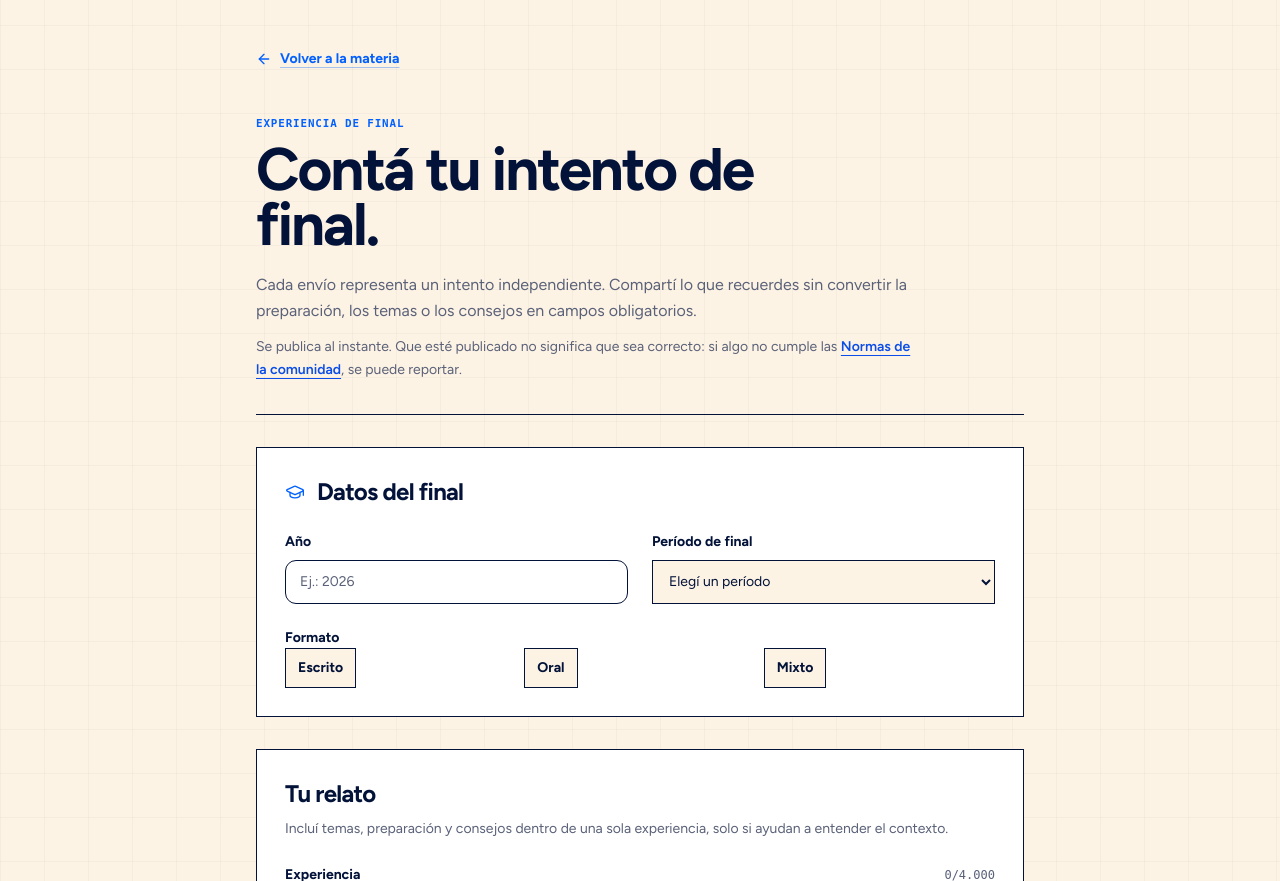
Test: ExamForm › keeps invalid grade input and supports keyboard format selection without inferring an outcome
Type keys "[Space]"
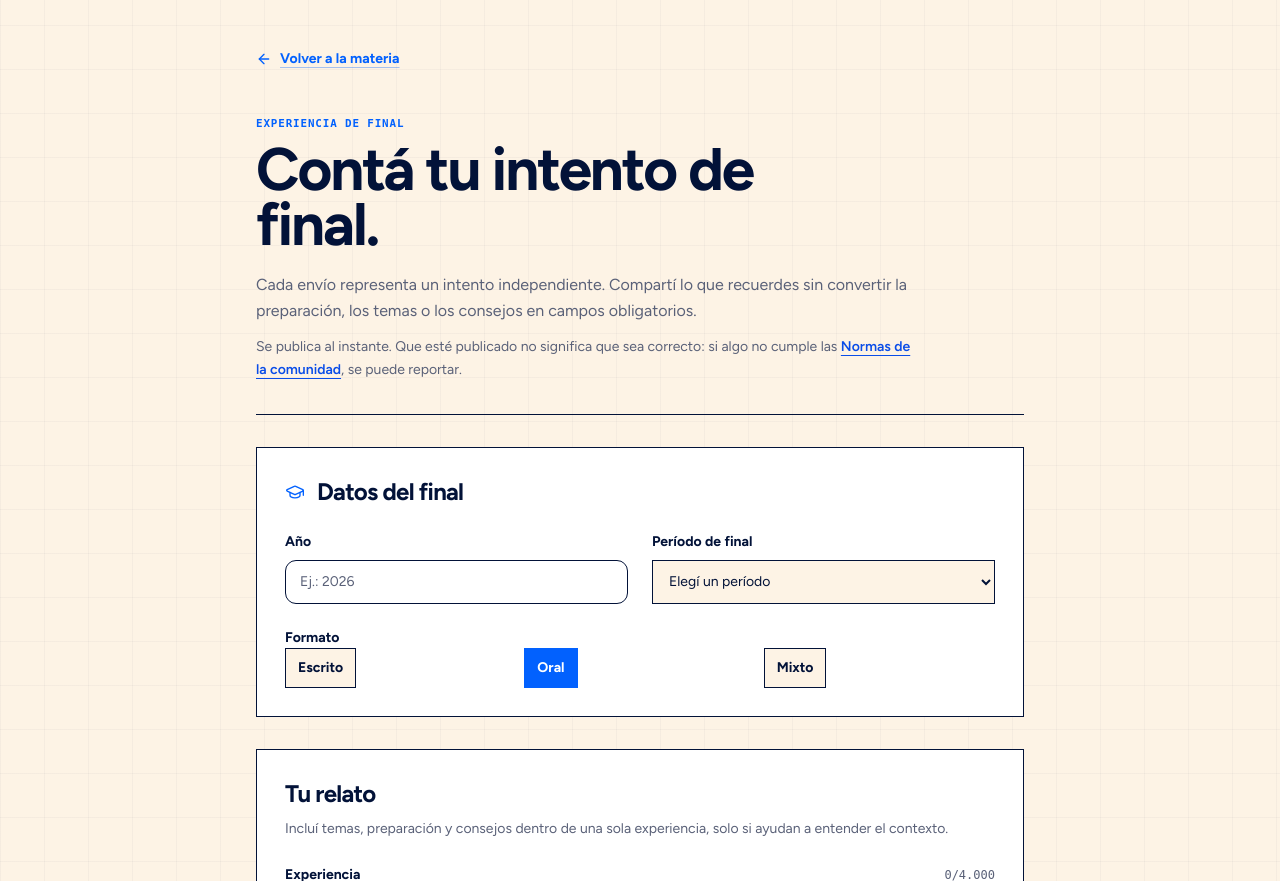
Check: the radio button labelled "Oral" is checked, box [524,648,578,688]
Type "2026" into the number field labelled "Año" at (456, 582), box [285,560,628,604]
Select "Julio" in the dropdown labelled "Período de final" at (824, 582), box [652,560,995,604]
(page scrolled)
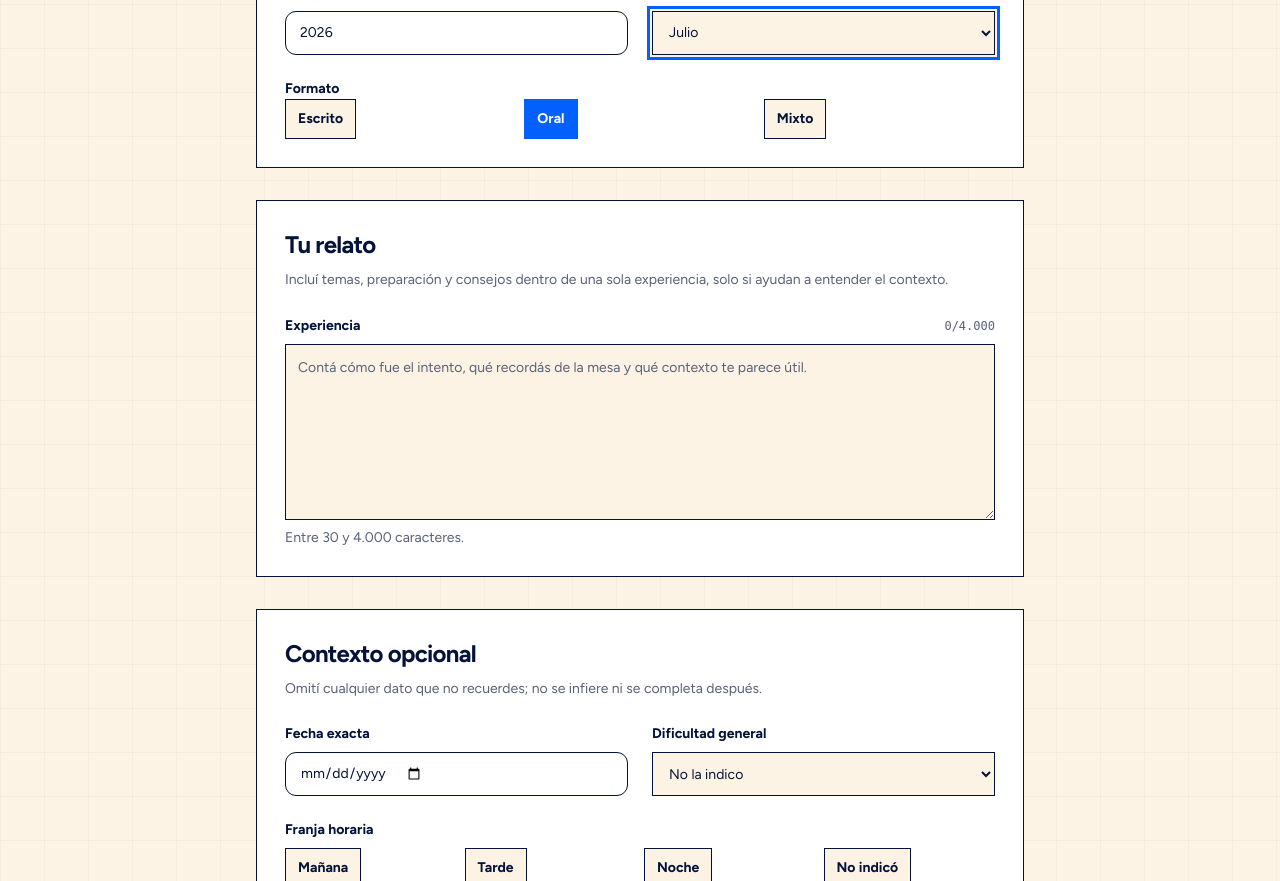
Type "La mesa recorrió grafos, complejidad y una defensa oral de las estructuras elegidas." into the text box labelled "Experiencia" at (640, 432), box [285,344,995,520]
(page scrolled)
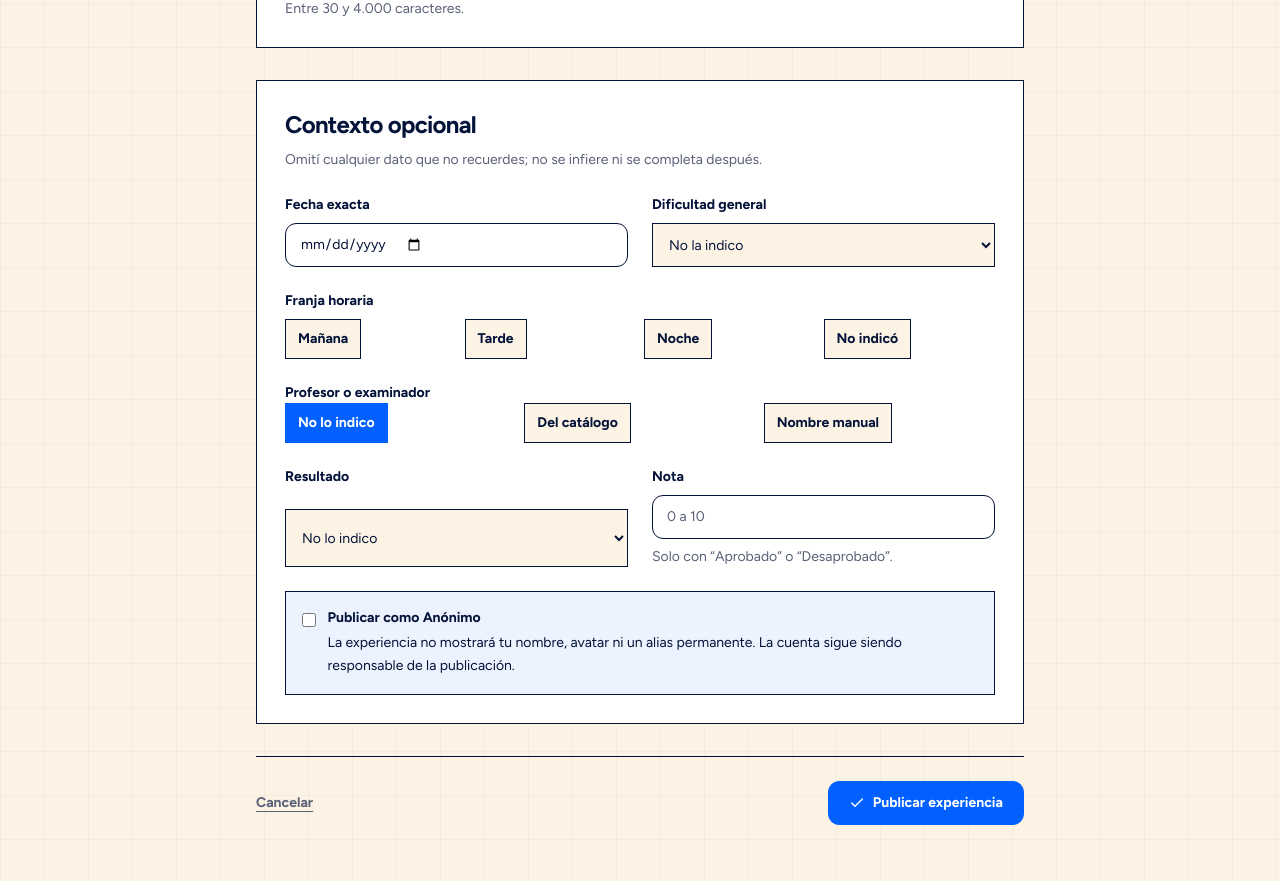
Select "Prefiero no decir" in the dropdown labelled "Resultado" at (456, 538), box [285,509,628,567]
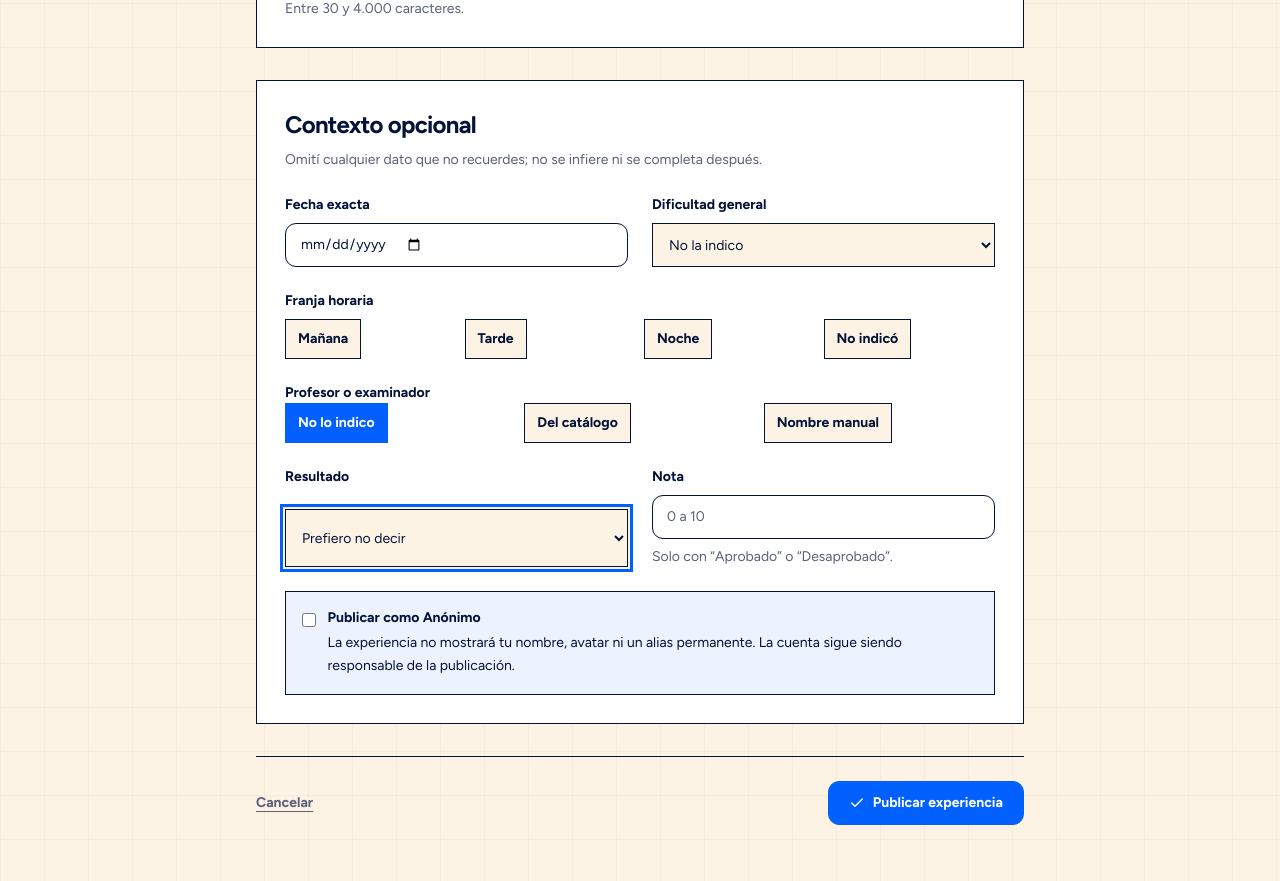
Type "7" into the number field labelled "Nota" at (824, 517), box [652,495,995,539]
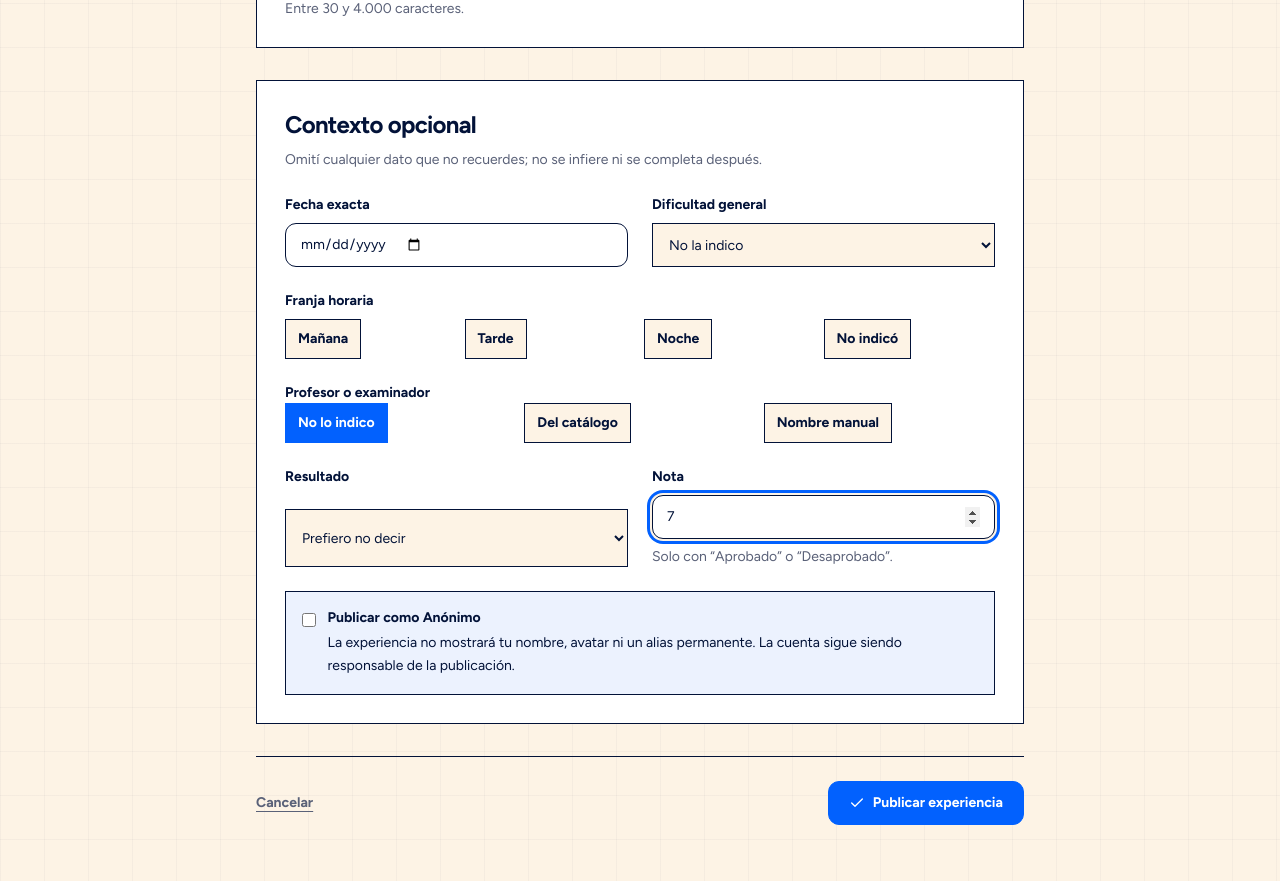
Click the button "Publicar experiencia" at (926, 803), box [828,781,1024,825]
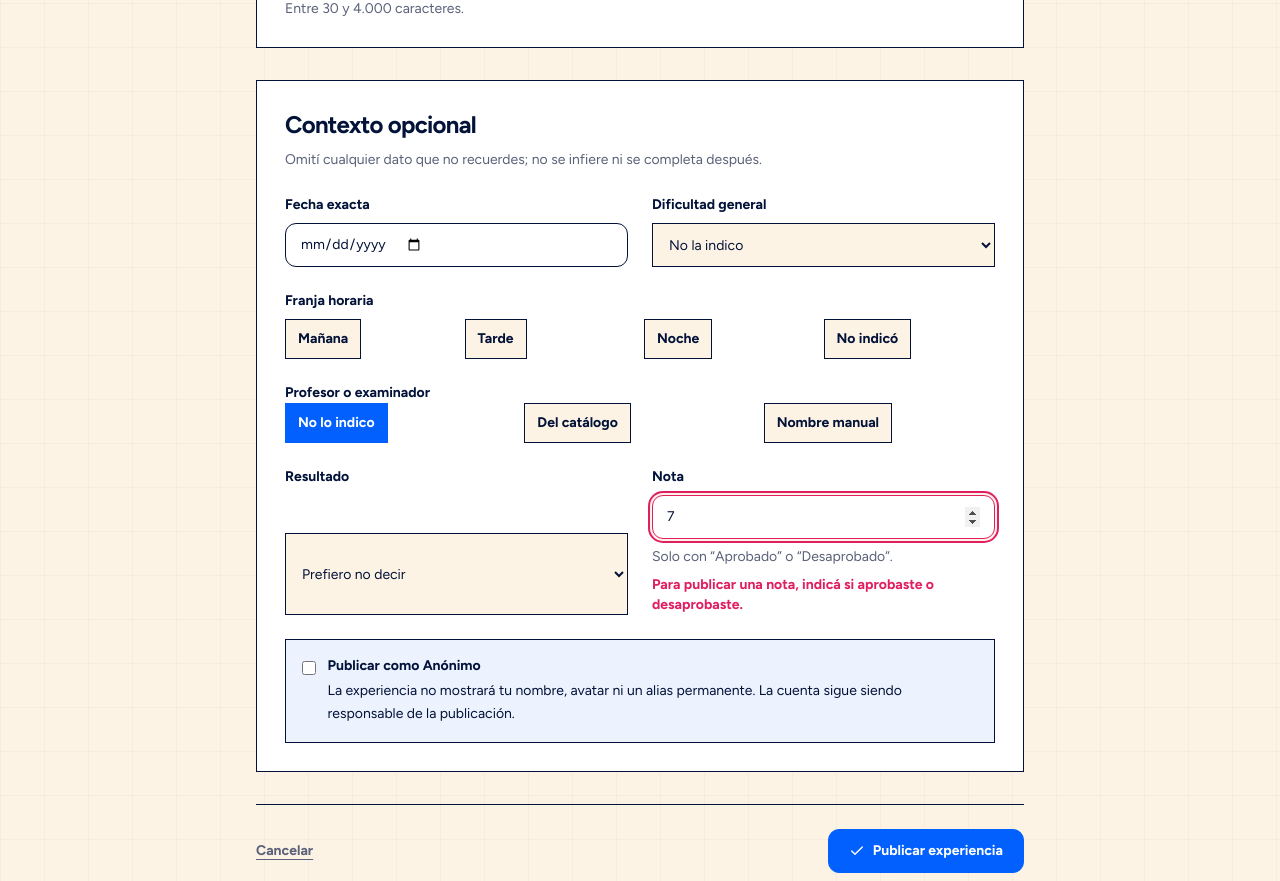
Check: the text "Para publicar una nota, indicá si aprobaste o desaprobaste." is shown, box [652,576,934,613]
